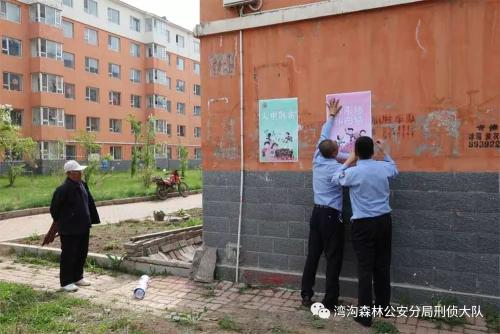bill: (325, 90, 373, 158), (259, 97, 299, 162)
